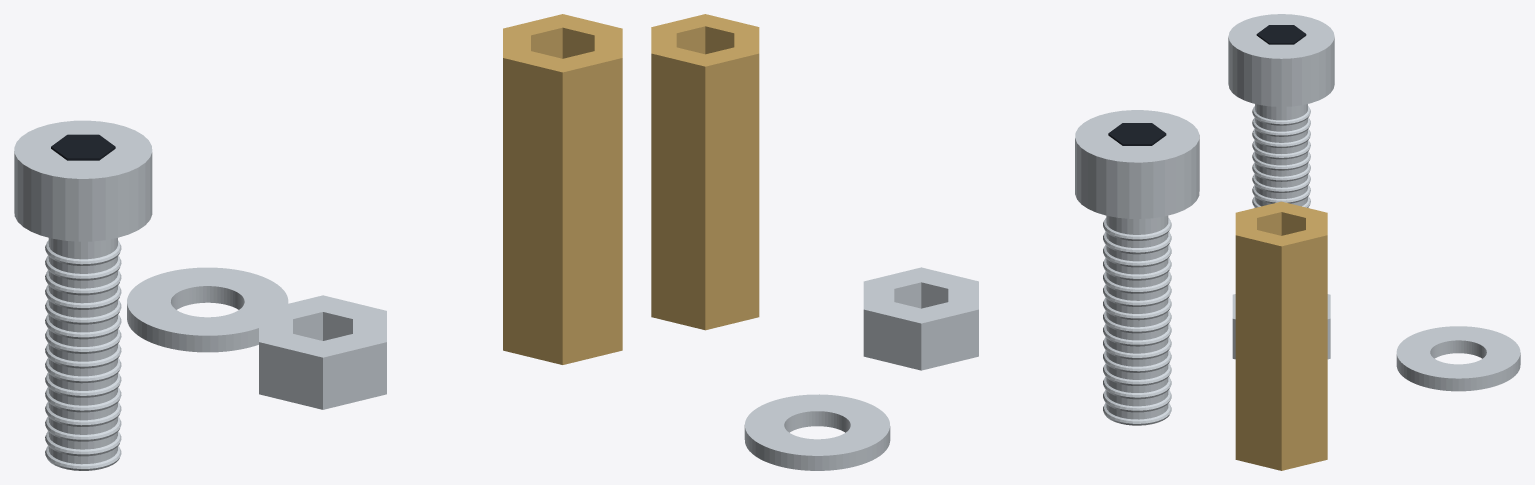
Rendered from fastener-set.glb.
3 renders of one model, left to right at view 1: azimuth 30°, elevation 25°; view 2: azimuth 150°, elevation 25°; view 3: azimuth 270°, elevation 25°, orthographic. The views are drawn at different scales.
Visible parts, largest first — view 1: Static body • silver, Static body • brass, Static body • black; view 2: Static body • silver, Static body • brass, Static body • black; view 3: Static body • brass, Static body • silver, Static body • black.
Part boxes in pixels (box(x1,y1,x2,y2)): Static body • silver: box(14, 120, 386, 470); Static body • brass: box(503, 14, 622, 364); Static body • black: box(51, 134, 115, 160); Static body • silver: box(744, 110, 1199, 470); Static body • brass: box(651, 14, 759, 330); Static body • black: box(1108, 123, 1166, 145); Static body • brass: box(1235, 201, 1327, 470); Static body • silver: box(1228, 14, 1520, 391); Static body • black: box(1256, 25, 1306, 44).
Bounding box in the file's own units: 30 × 15.05 × 16.5.
